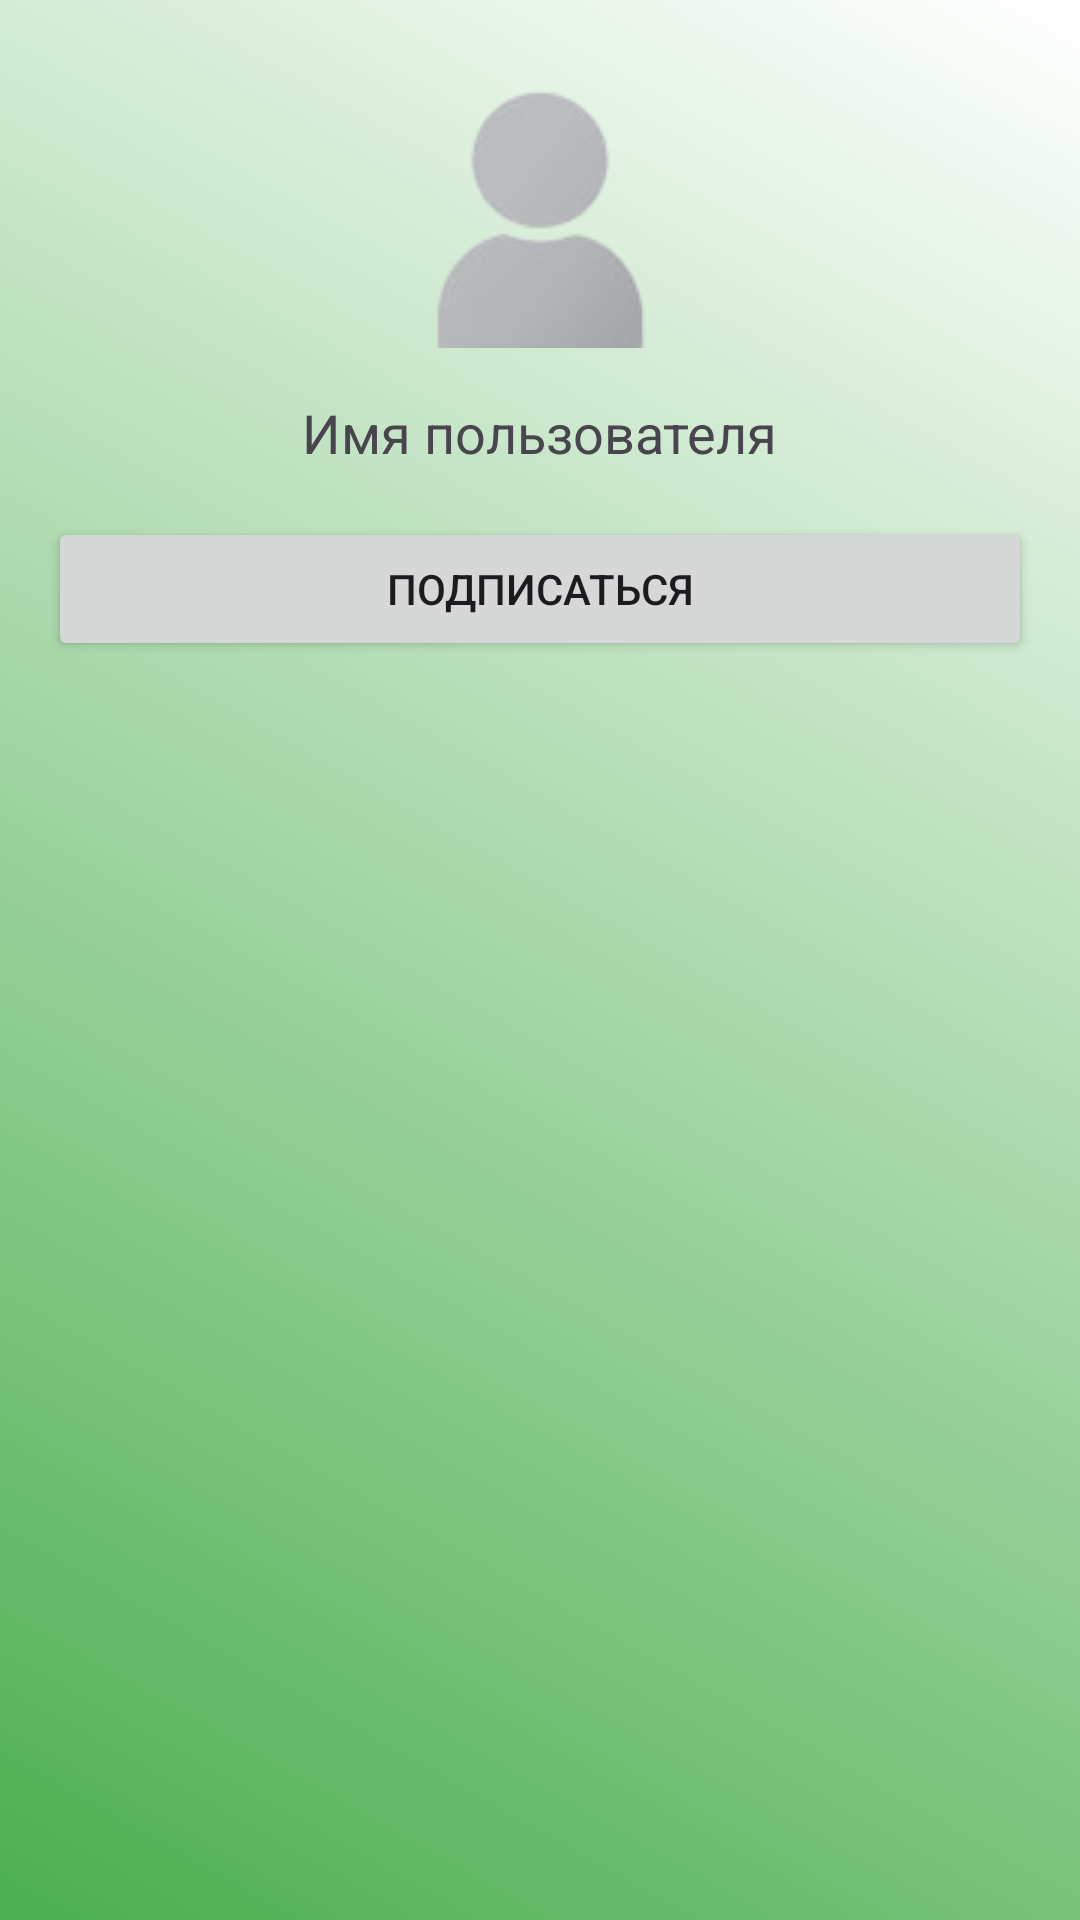

Screen size 1080px x 1920px. Icon name, then its box in pixels as (x1, y1, x2, y2):
avat: (437, 93, 644, 348)
